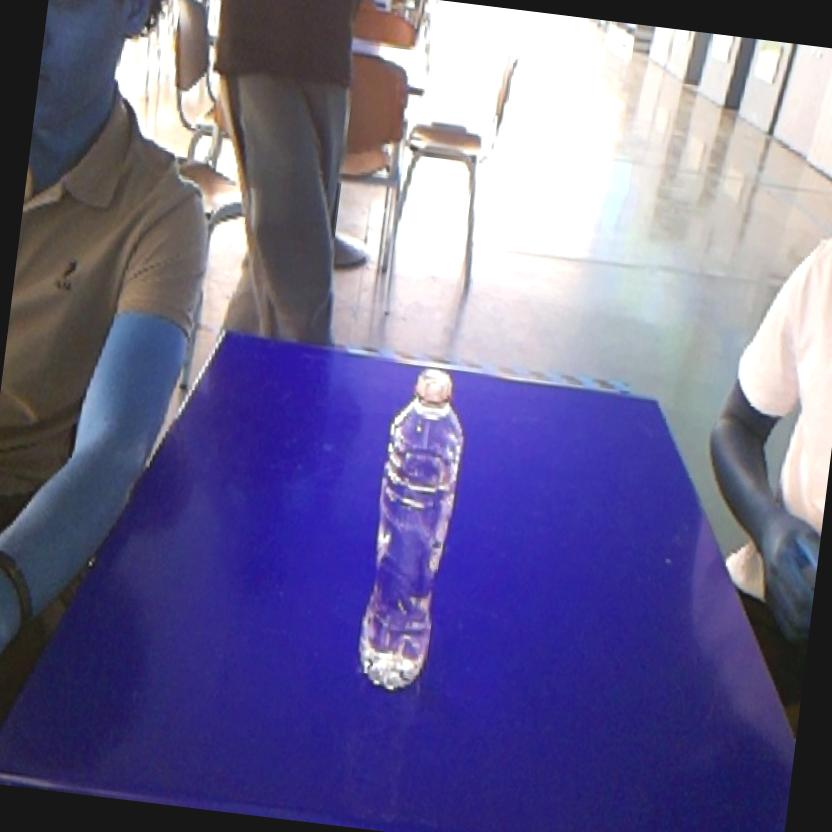no_cap: (346, 354, 479, 702)
